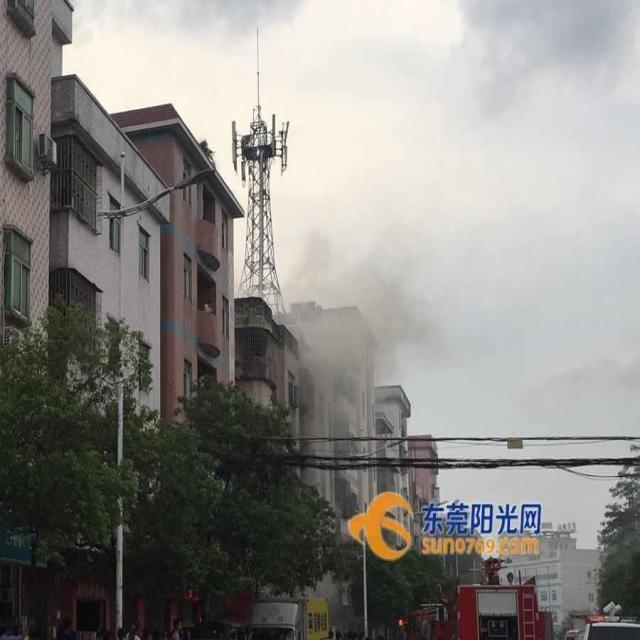Smoke: (277, 212, 446, 434)
